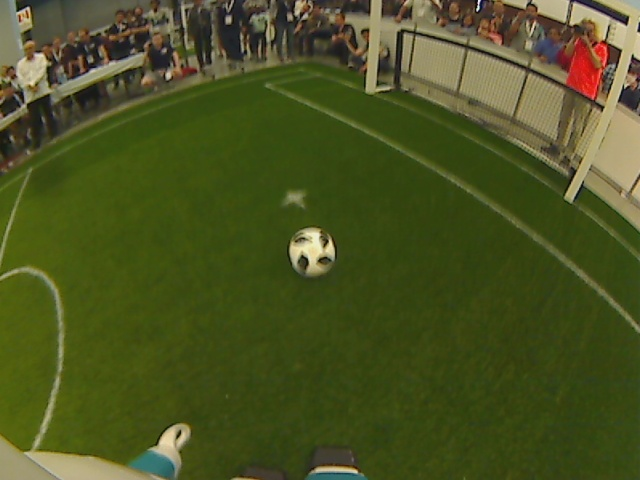ball: (286, 226, 338, 281)
goalpost: (555, 181, 583, 212), (357, 75, 383, 106)
